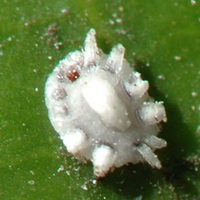insect: (45, 29, 166, 176)
